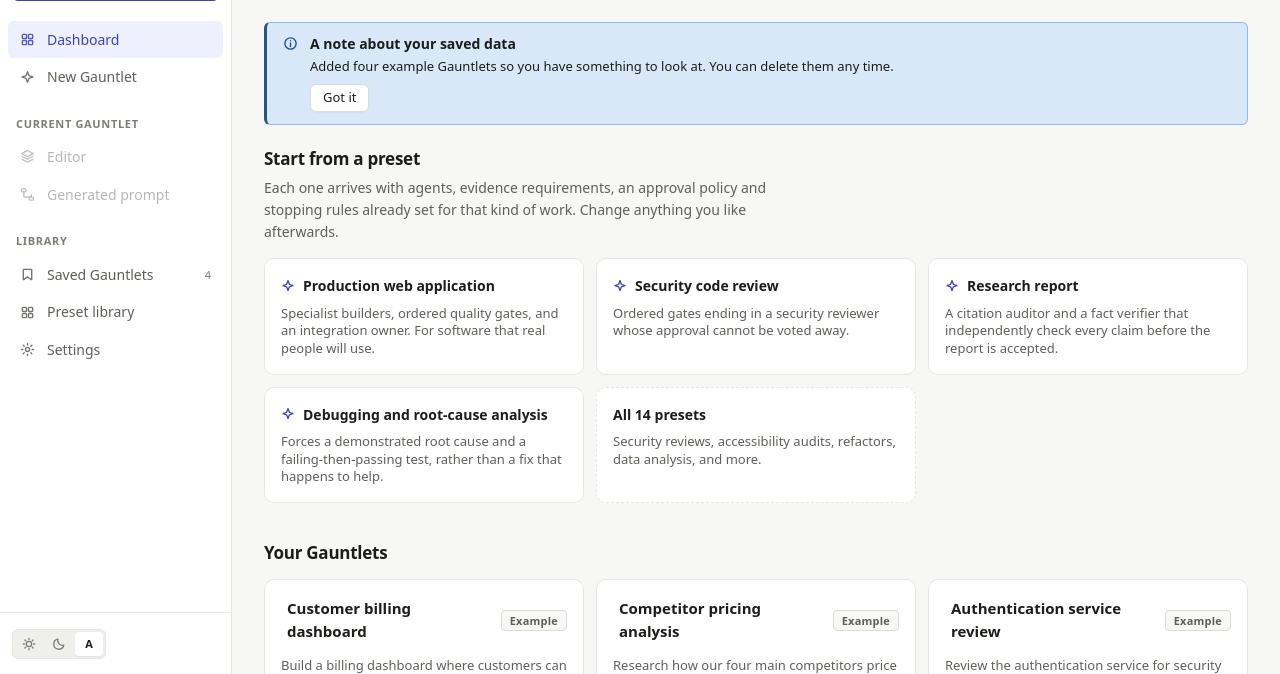
Test: settings › reports how many Gauntlets are stored
The width and height of the screenshot is (1280, 674).
Click the button "Settings" at (116, 350), box [8,331,223,369]
(page scrolled)
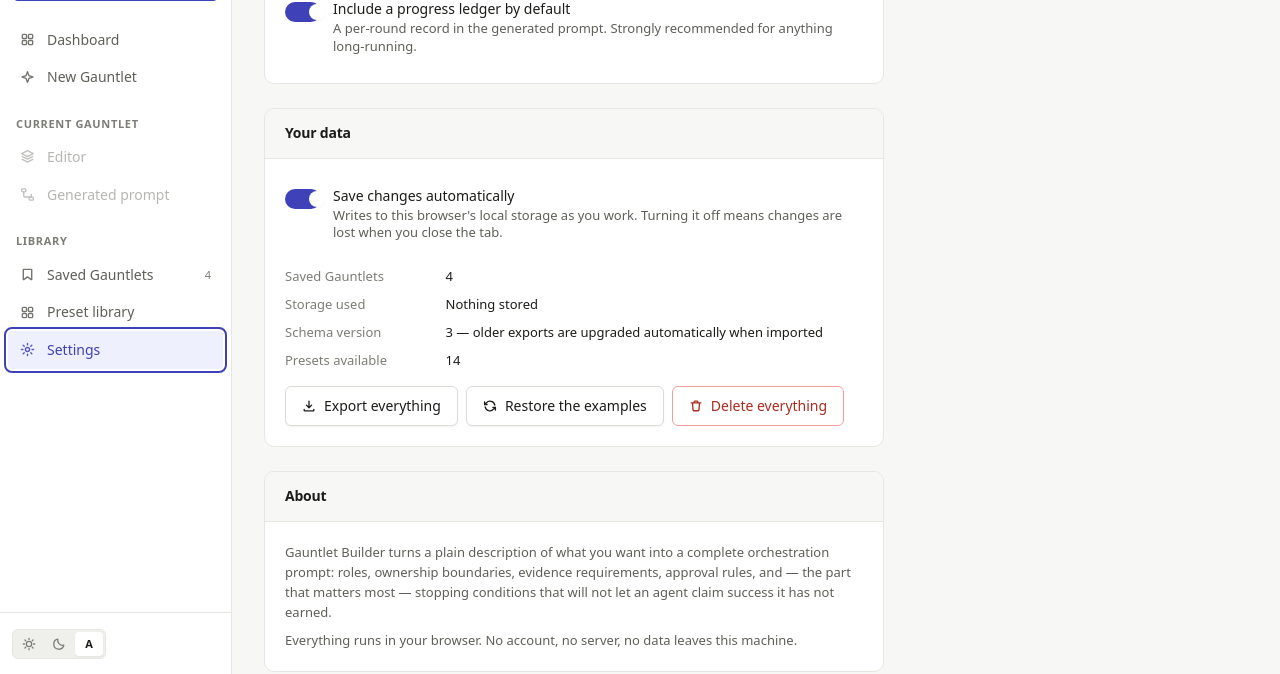
Result: the text "Saved Gauntlets" is shown at [285,267,384,285]
